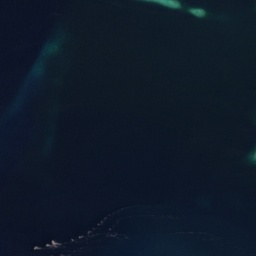Marine Debris: (70, 204, 142, 242), (174, 229, 229, 242), (44, 239, 61, 249), (33, 246, 42, 251), (108, 234, 116, 237), (61, 254, 64, 256), (109, 229, 111, 232)
